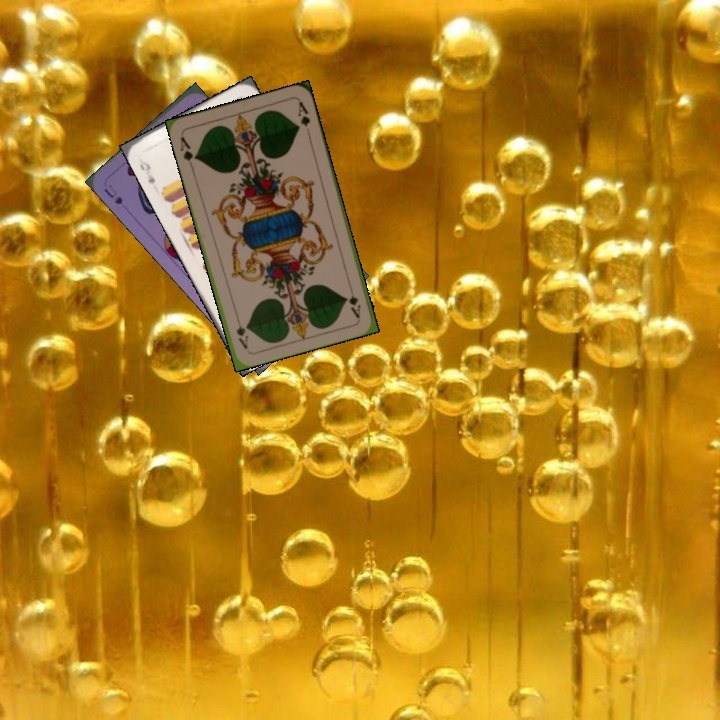E9: (134, 154, 158, 187)
GA: (176, 133, 200, 171), (344, 280, 363, 320)
SU: (100, 180, 125, 207)
